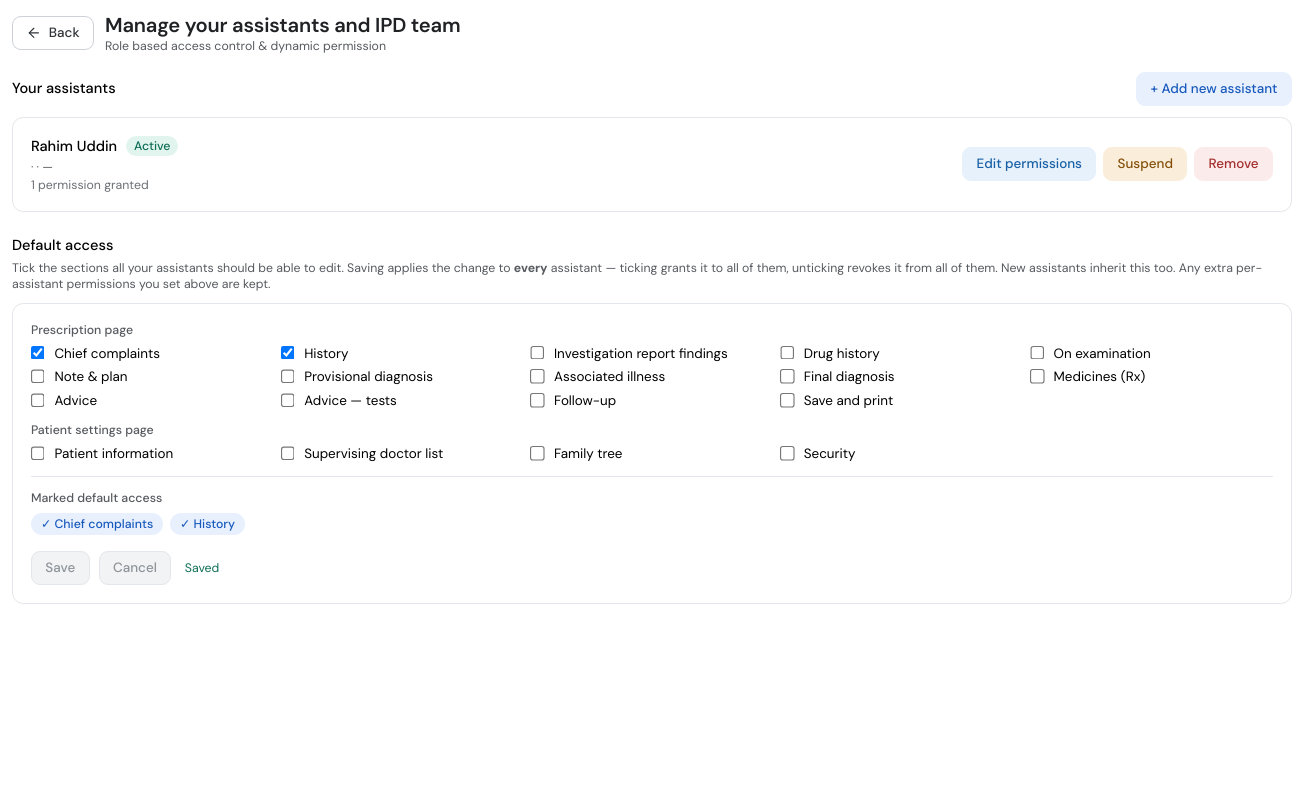
it: ManageAssistantsView per-assistant permission editor › seeds the draft from the stored grants exactly
Click the button "Edit permissions": point(1029, 164) x1=962 y1=148 x2=1096 y2=181
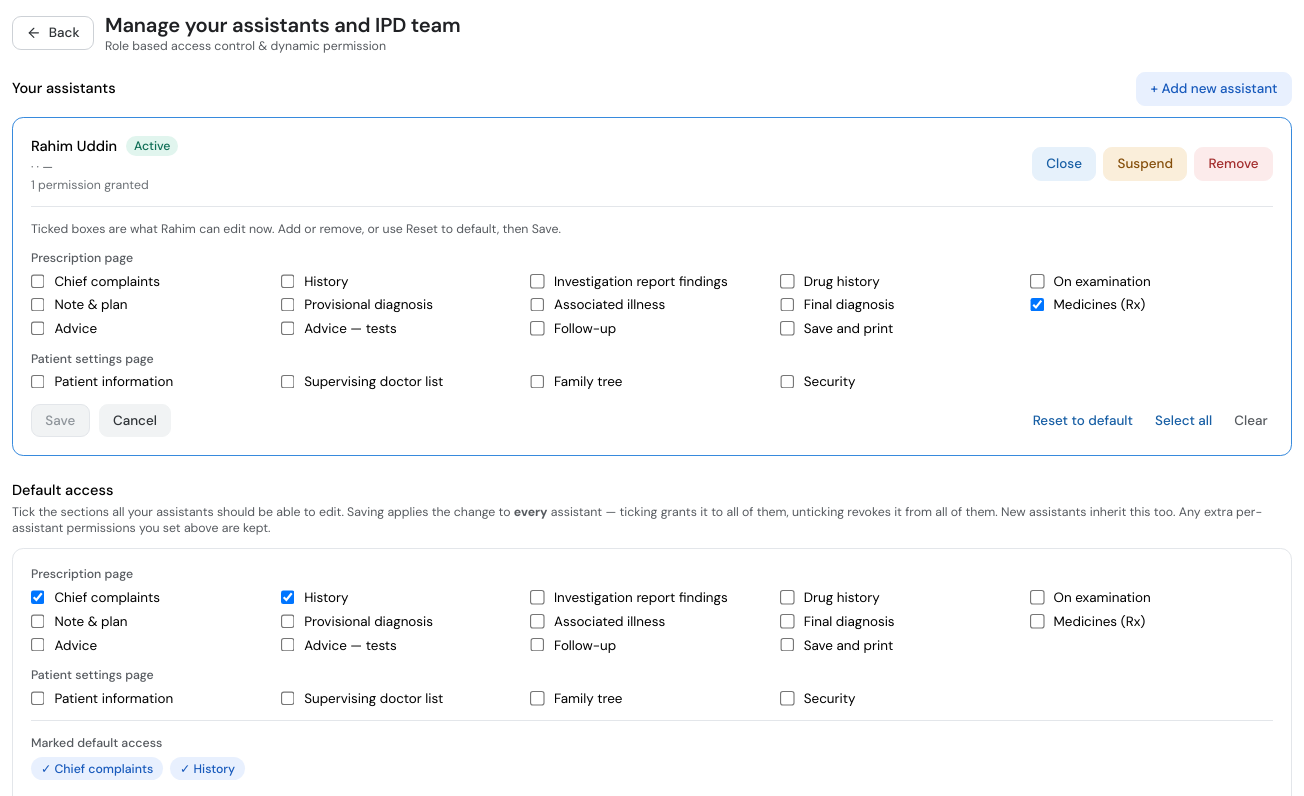
Now the 1st checkbox labelled "Medicines (Rx)" is checked, box x1=1030 y1=298 x2=1044 y2=312
Now the checkbox labelled "Chief complaints" below "Ticked boxes are what" is not checked, box x1=31 y1=274 x2=45 y2=288
